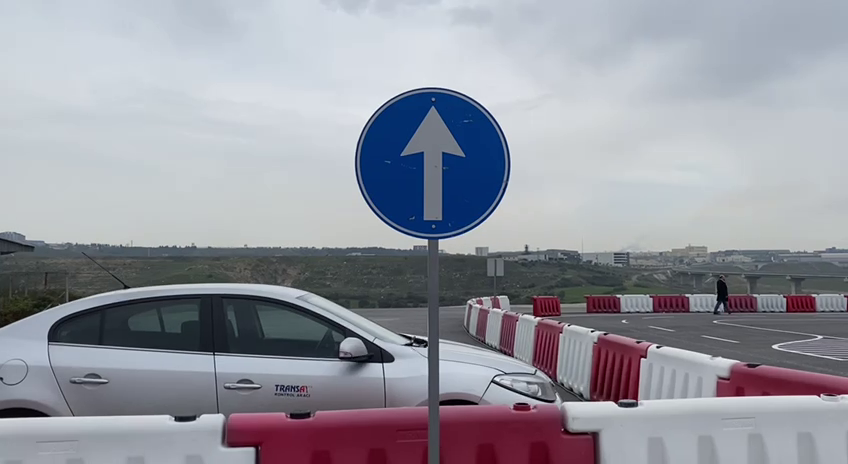forward: (351, 83, 517, 248)
